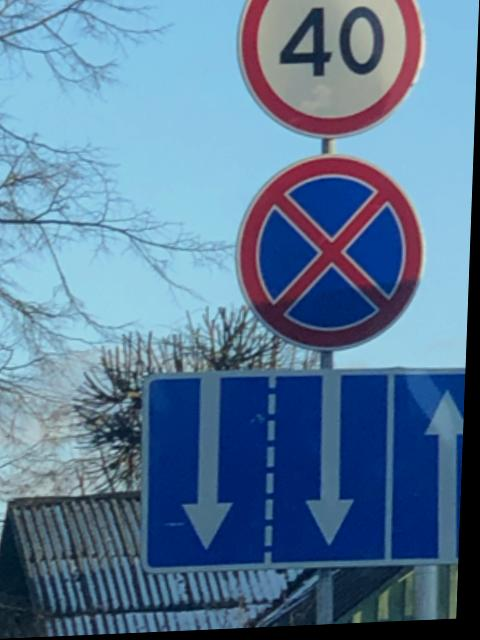limit40: (227, 0, 432, 150)
